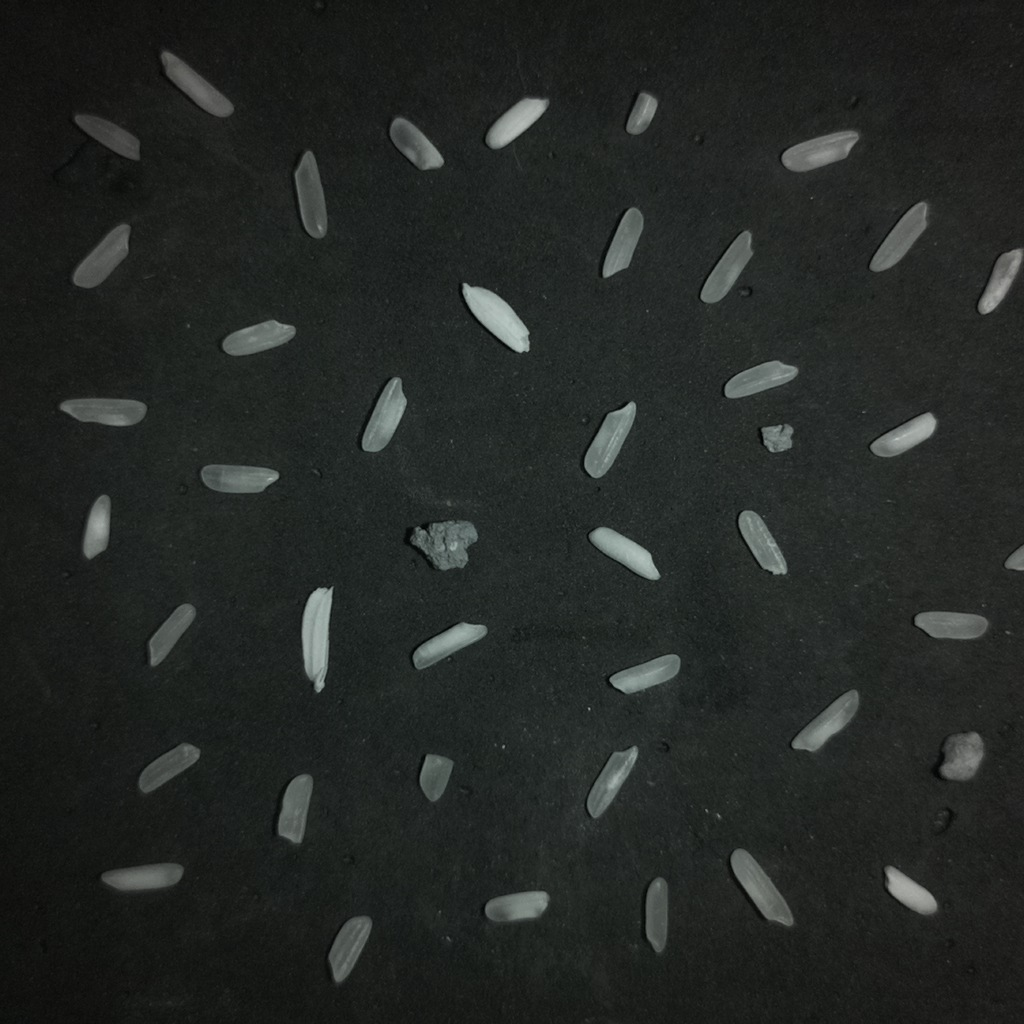broken: (884, 866, 937, 915), (419, 754, 453, 801)
chalky: (160, 50, 232, 117), (791, 689, 858, 751), (588, 527, 660, 580), (72, 223, 130, 288), (412, 622, 487, 668), (485, 97, 549, 149), (362, 378, 406, 452), (781, 130, 858, 171), (977, 248, 1024, 315), (738, 510, 787, 574), (870, 412, 936, 457), (609, 654, 680, 693), (221, 320, 295, 355), (100, 863, 183, 891), (200, 464, 278, 493), (484, 890, 549, 922), (82, 495, 110, 559), (626, 91, 657, 134)
foreign: (461, 283, 529, 352), (409, 521, 477, 570), (301, 586, 332, 692), (938, 731, 984, 781), (760, 424, 792, 452)
whole: (730, 849, 793, 926), (869, 202, 927, 271), (584, 401, 635, 478), (586, 746, 638, 819), (701, 230, 752, 303), (138, 742, 199, 793), (73, 114, 140, 160), (148, 603, 195, 666), (328, 916, 371, 983), (294, 151, 327, 238), (602, 207, 643, 277), (389, 117, 443, 170), (723, 360, 798, 398), (277, 774, 312, 844), (59, 399, 146, 426), (914, 611, 988, 639), (645, 877, 668, 953)
